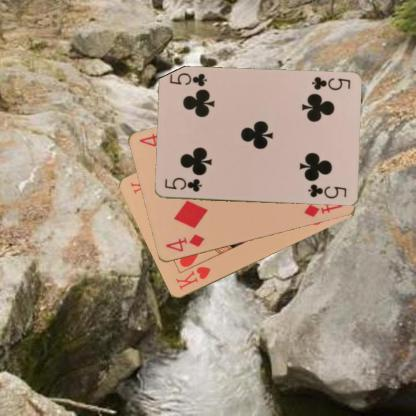4d: (163, 232, 206, 254)
5c: (308, 74, 352, 92), (162, 175, 203, 194)
Kh: (173, 264, 212, 291)
